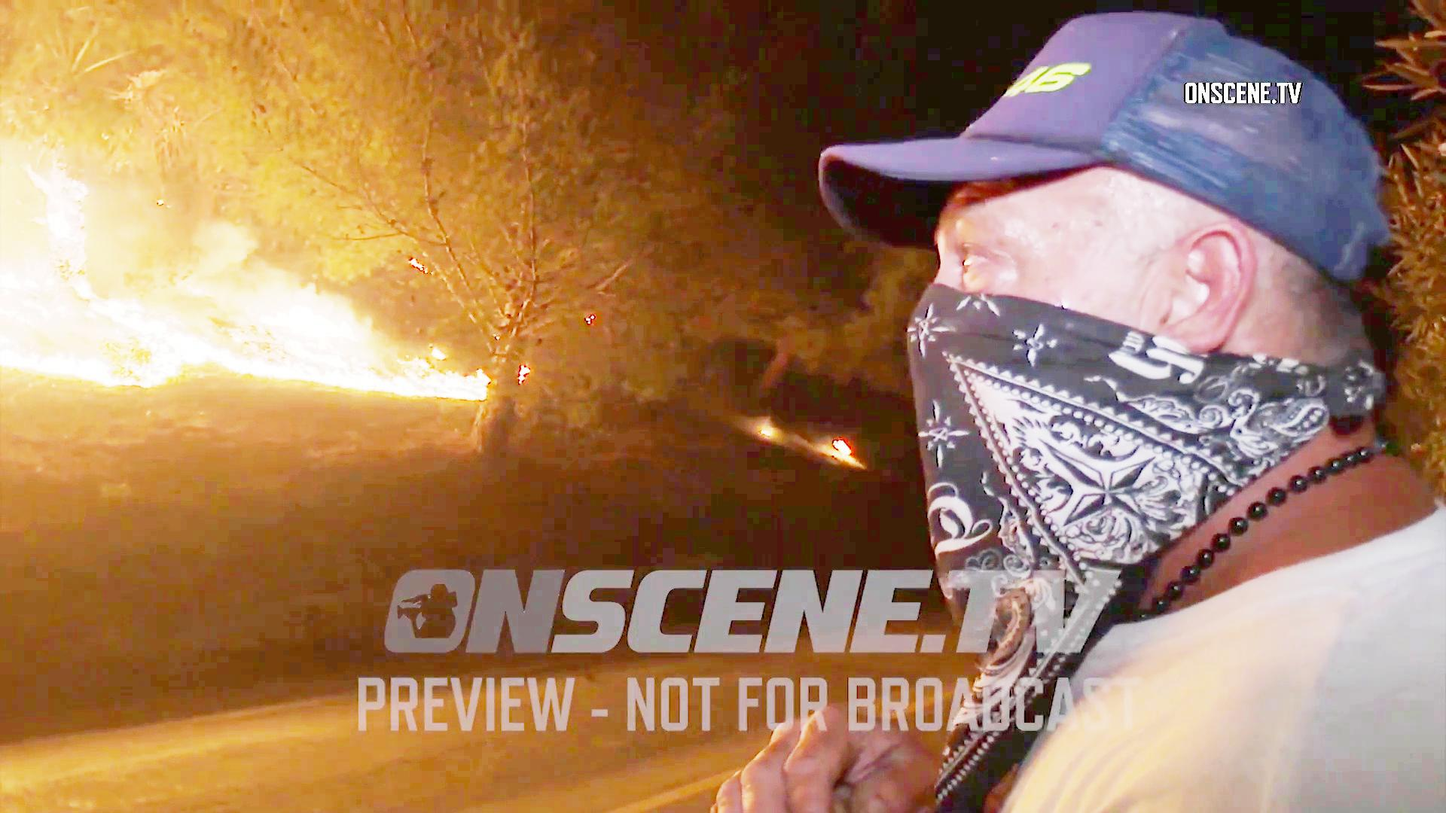fire: (0, 181, 162, 384)
